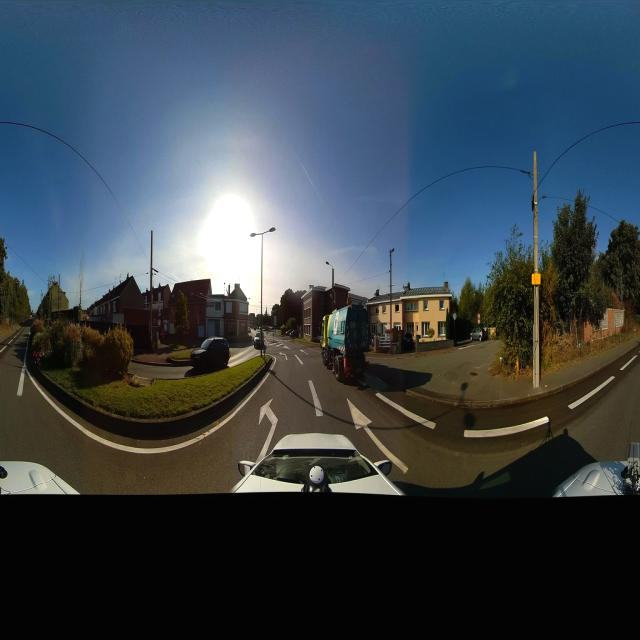car: (325, 302, 370, 383), (189, 335, 230, 371), (400, 332, 416, 352), (375, 336, 391, 353)
